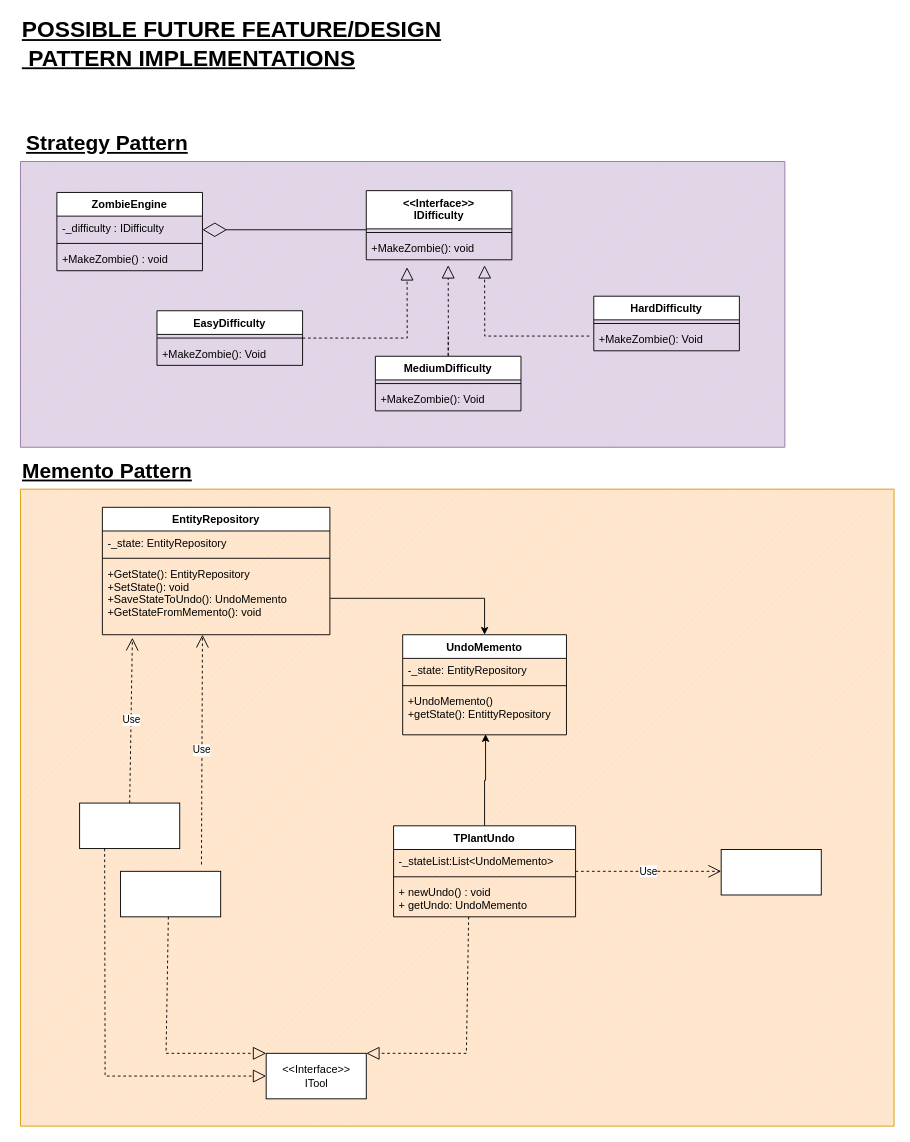
Image size: 910x1142. Some labels were removed from this diagram. The shapes that lost their labels are listed below. From the top down, each one's centre as x and y in pixels, then its label:
At (x=129, y=825): "TPlantPlacement".
At (x=770, y=872): "InputManager".
At (x=170, y=893): "TPlantRemoval".
